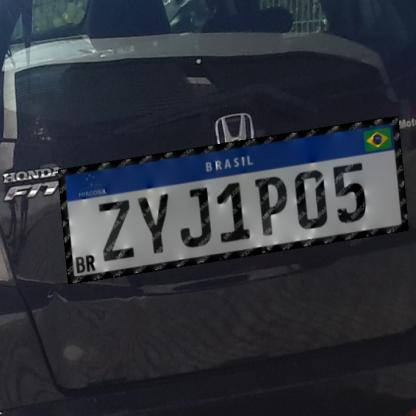PlacaM: (58, 116, 409, 284)
